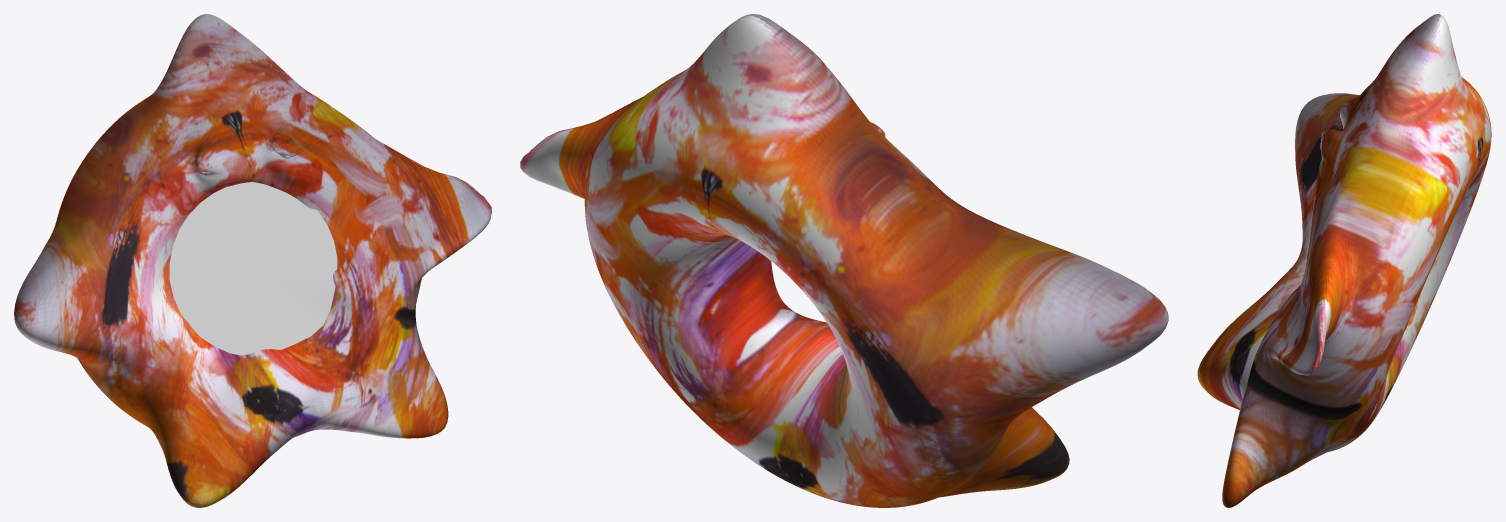
The model's file is creative_idea.glb.
3 views of the same model, side by side, from view 1: azimuth 30°, elevation 25°; view 2: azimuth 150°, elevation 25°; view 3: azimuth 270°, elevation 25° (orthographic). The views are drawn at different scales.
Visible parts, largest first — view 1: creativeb; view 2: creativeb; view 3: creativeb.
Boxes of the visible parts, x1,y1,x2,y2 form: creativeb: [14, 14, 491, 507]; creativeb: [520, 14, 1168, 507]; creativeb: [1197, 14, 1491, 507].
Bounding box in the file's own units: 0.5386 × 0.4257 × 0.2633.
Materials: 1 (1 with a texture image).
